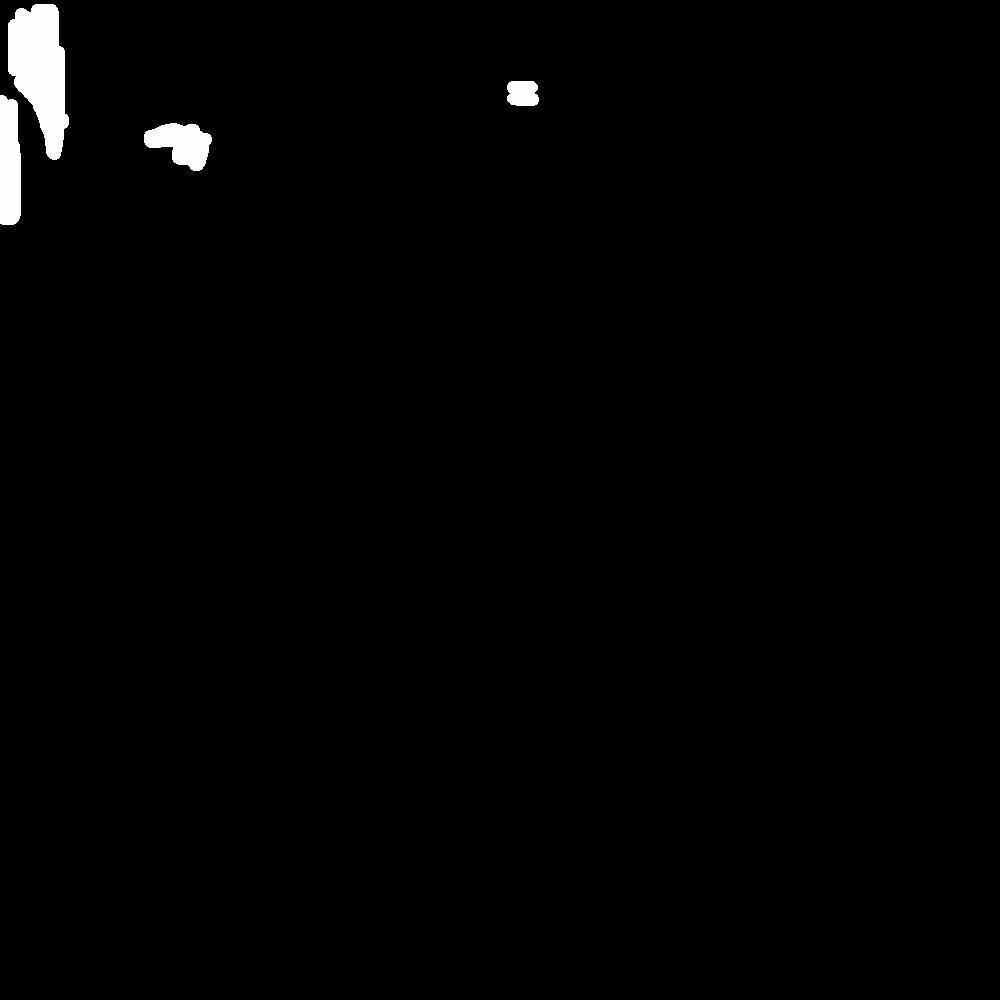illegal: (1, 3, 62, 224), (145, 117, 213, 171)
